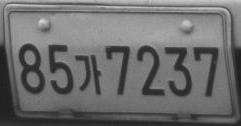2: (135, 44, 164, 96)
3: (165, 45, 192, 96)
5: (47, 44, 74, 95)
7: (193, 46, 219, 97), (105, 44, 130, 96)
8: (17, 42, 45, 94)
가: (75, 54, 102, 95)
